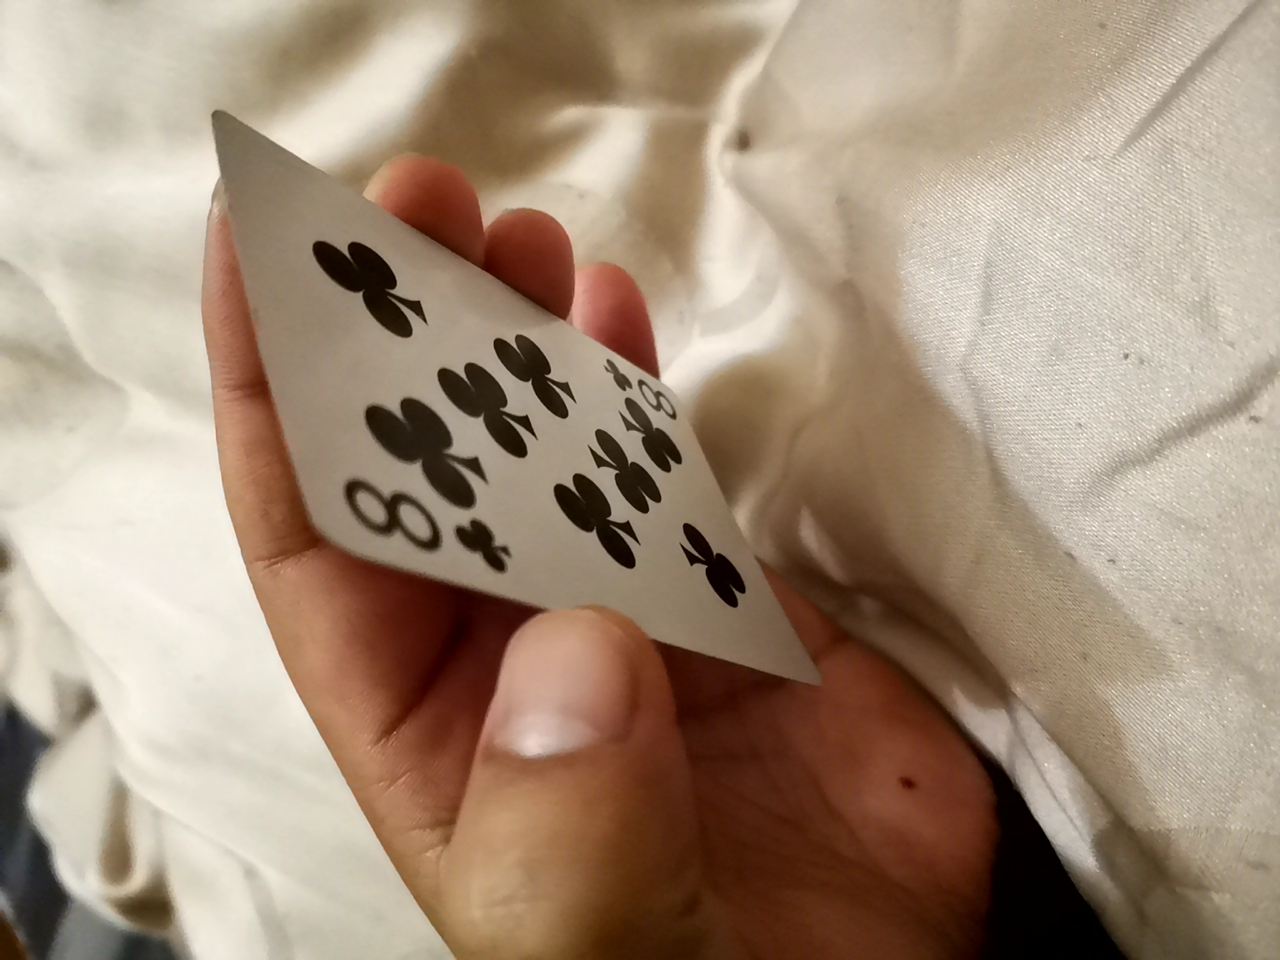mh 8: (210, 75, 777, 712)
